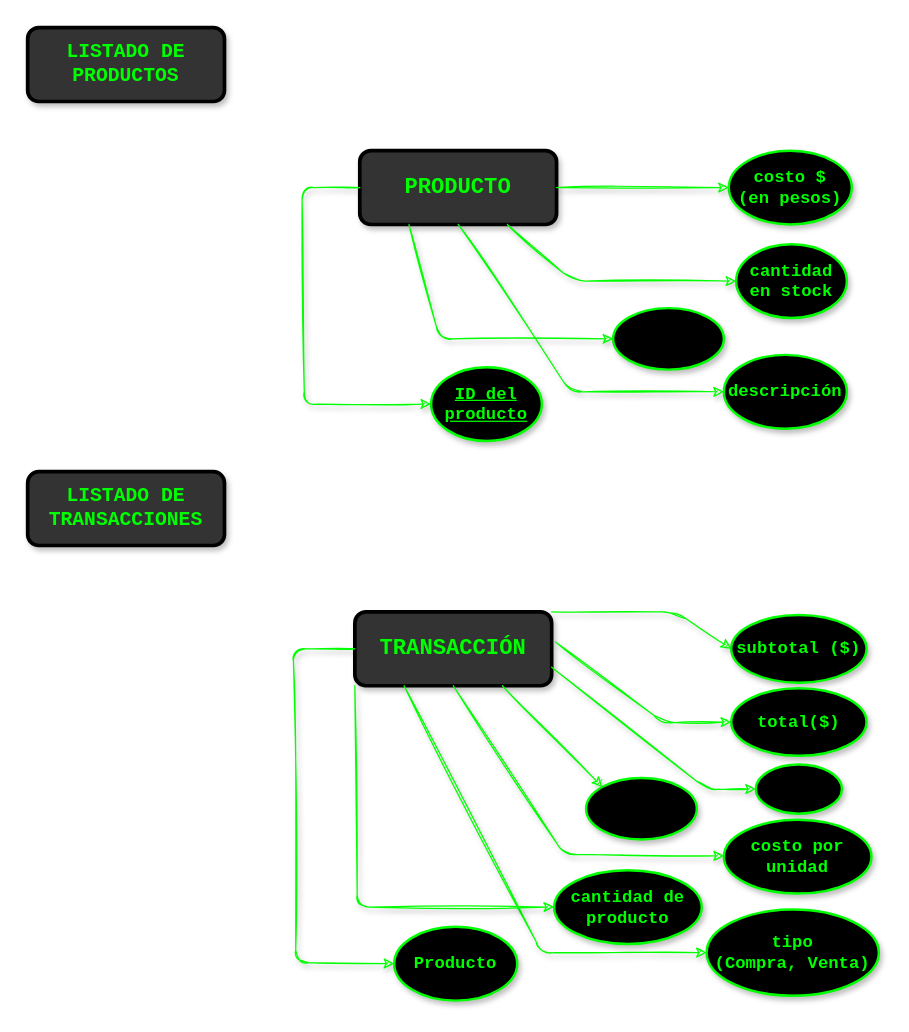
Some shapes in this 909 by 1032 pixel diagram are drawn without their labels. Here are the shapes that lost their labels. From the top down, the centre of each, then its label:
(x=669, y=340): nombre
(x=642, y=810): Fecha
(x=799, y=790): IVA(%)
